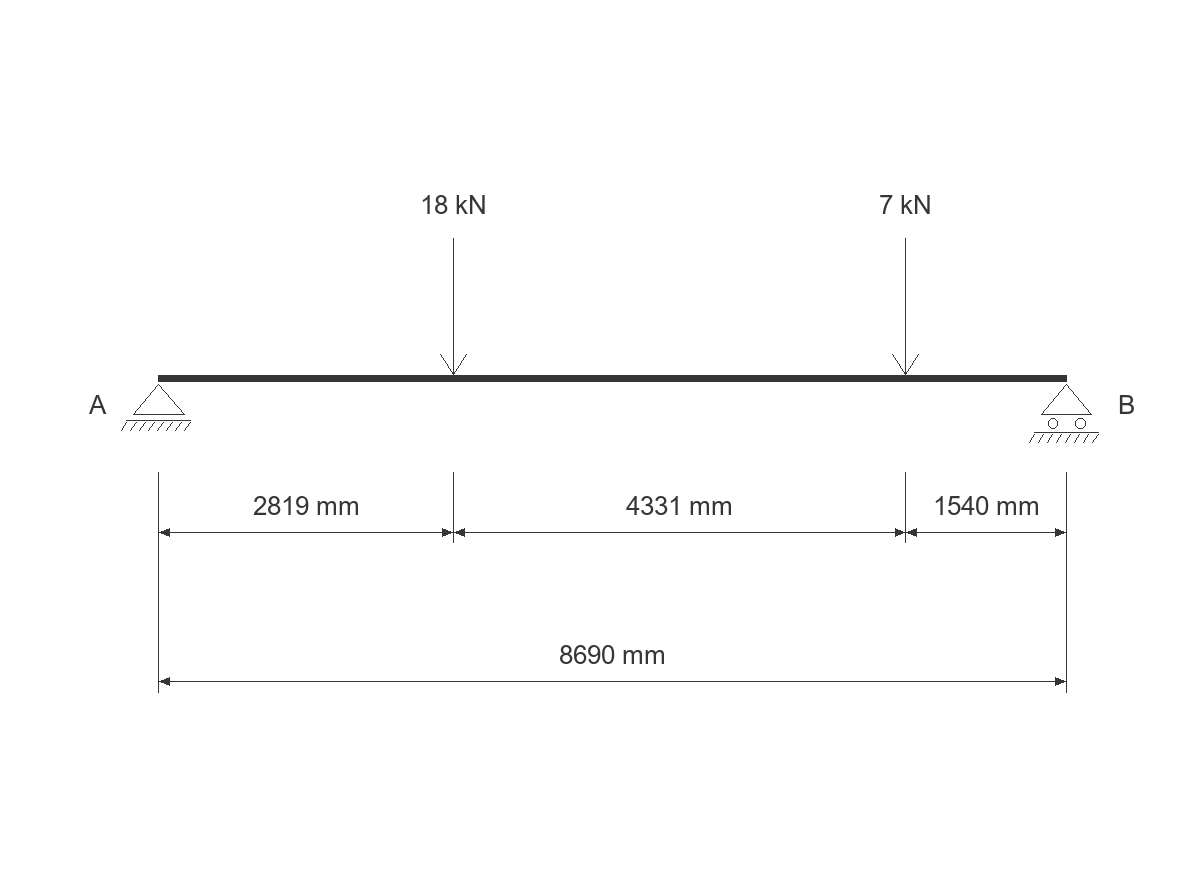pin_support: (121, 384, 191, 431)
point_load: (440, 238, 467, 375), (892, 238, 919, 375)
roller_support: (1029, 384, 1099, 443)
